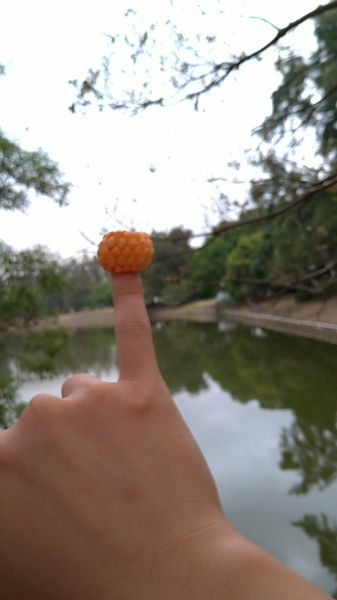eggs: (94, 231, 155, 274)
